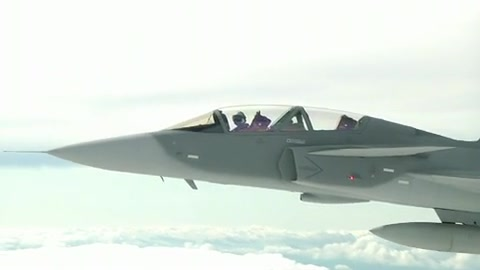aeroplane: (5, 103, 480, 255)
